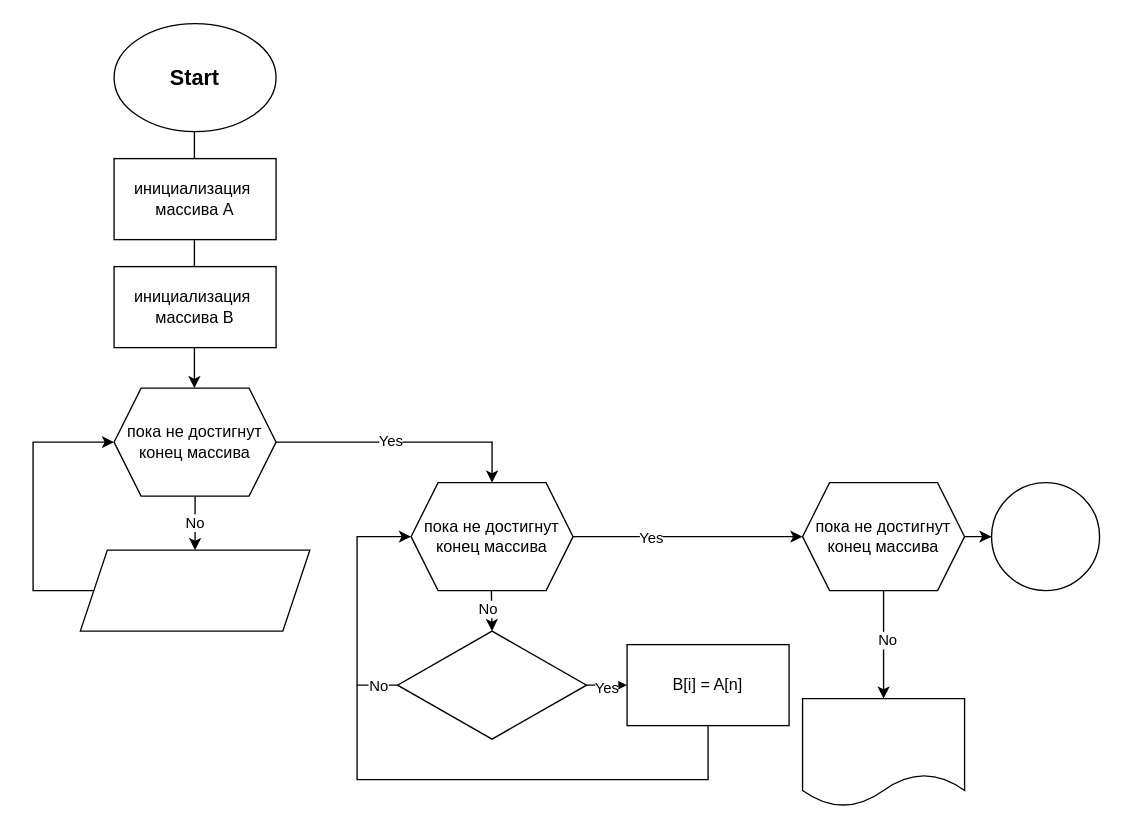
This 1123x830 diagram has some shape labels left out. The centre of each missing label's shape, as x and y in pixels:
"Finish" belongs at point (1045, 536).
"Вывод массива В" belongs at point (883, 752).
"Если А[n] <=3" belongs at point (491, 684).
"Заполнение массива А пользователем" belongs at point (194, 590).
